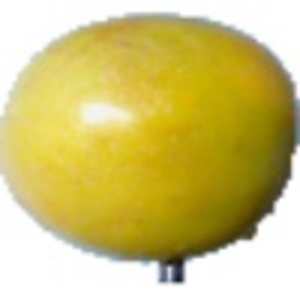maracujá: (1, 13, 300, 285)
